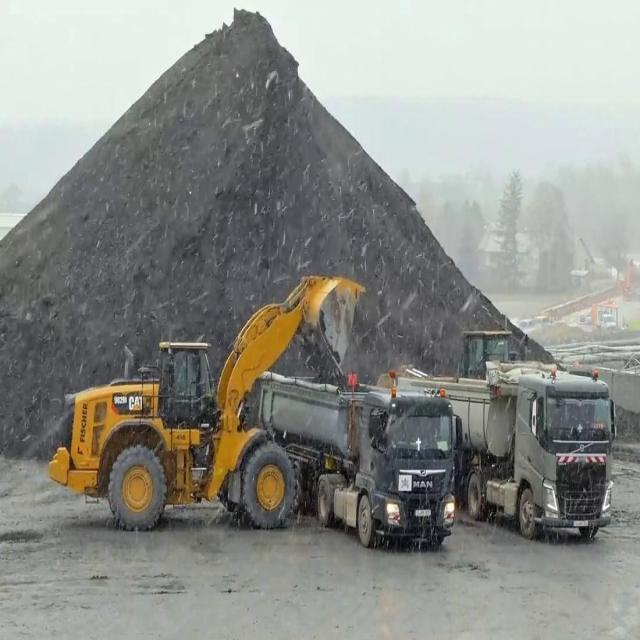Dump Truck: (389, 363, 618, 541), (258, 366, 464, 548)
Loader: (44, 272, 367, 531)
